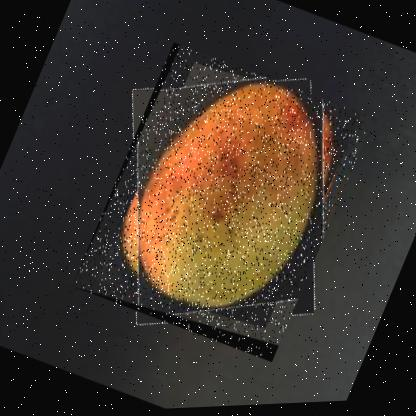mango: (71, 34, 374, 370)
